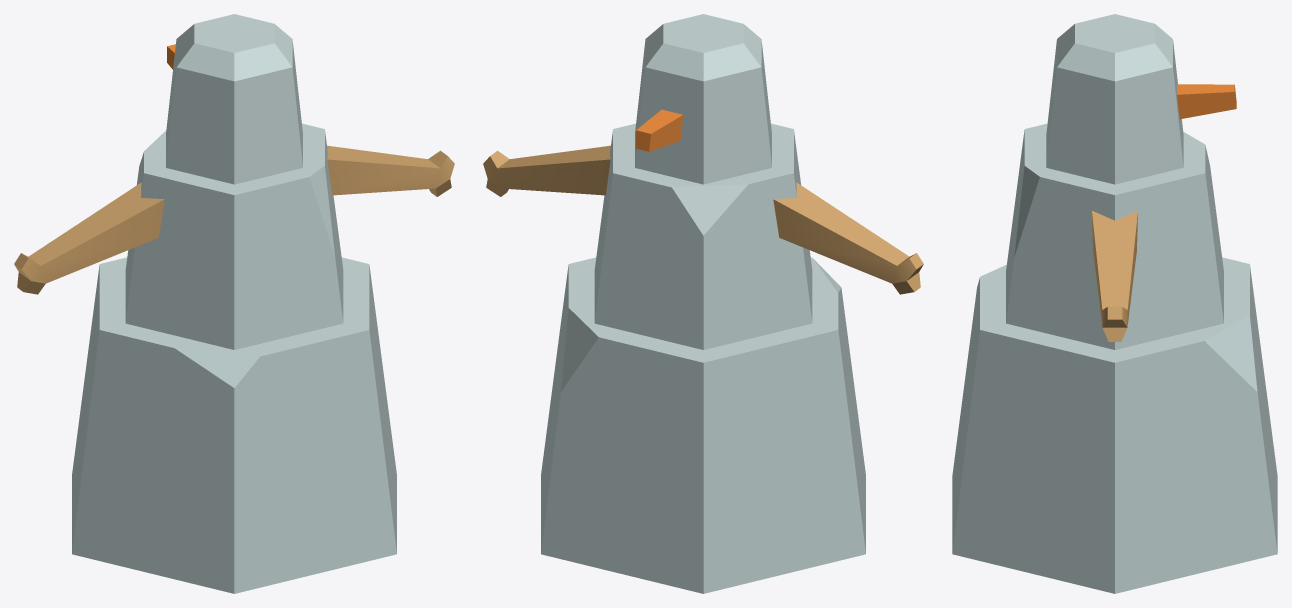
The model's file is snowman.fbx.
The picture shows the model from 3 angles, left to right: view 1: azimuth 30°, elevation 25°; view 2: azimuth 150°, elevation 25°; view 3: azimuth 270°, elevation 25°; orthographic projection.
Visible parts, largest first — view 1: snowman; view 2: snowman; view 3: snowman.
Part boxes in pixels (<box>): snowman: <box>14,14,454,593</box>; snowman: <box>483,14,923,593</box>; snowman: <box>952,14,1277,593</box>.
Size of the model in its own units: 6.93 by 7.36 by 4.5.
